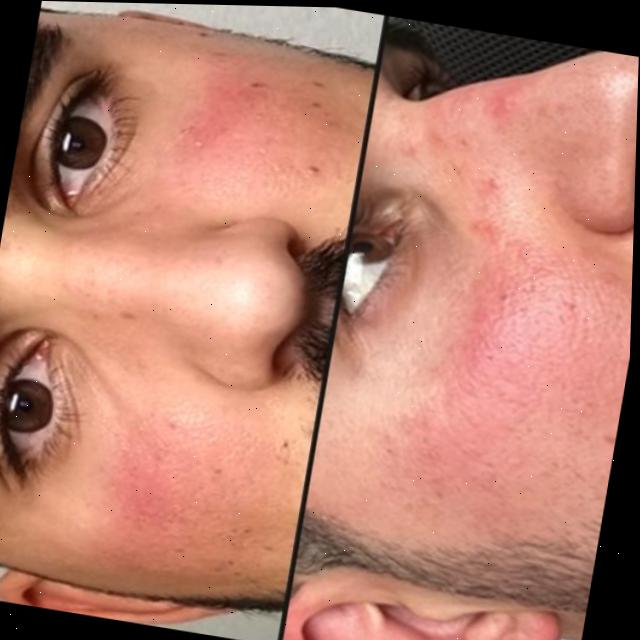Rosacea: (404, 197, 610, 469), (164, 44, 363, 217), (91, 398, 239, 592)
